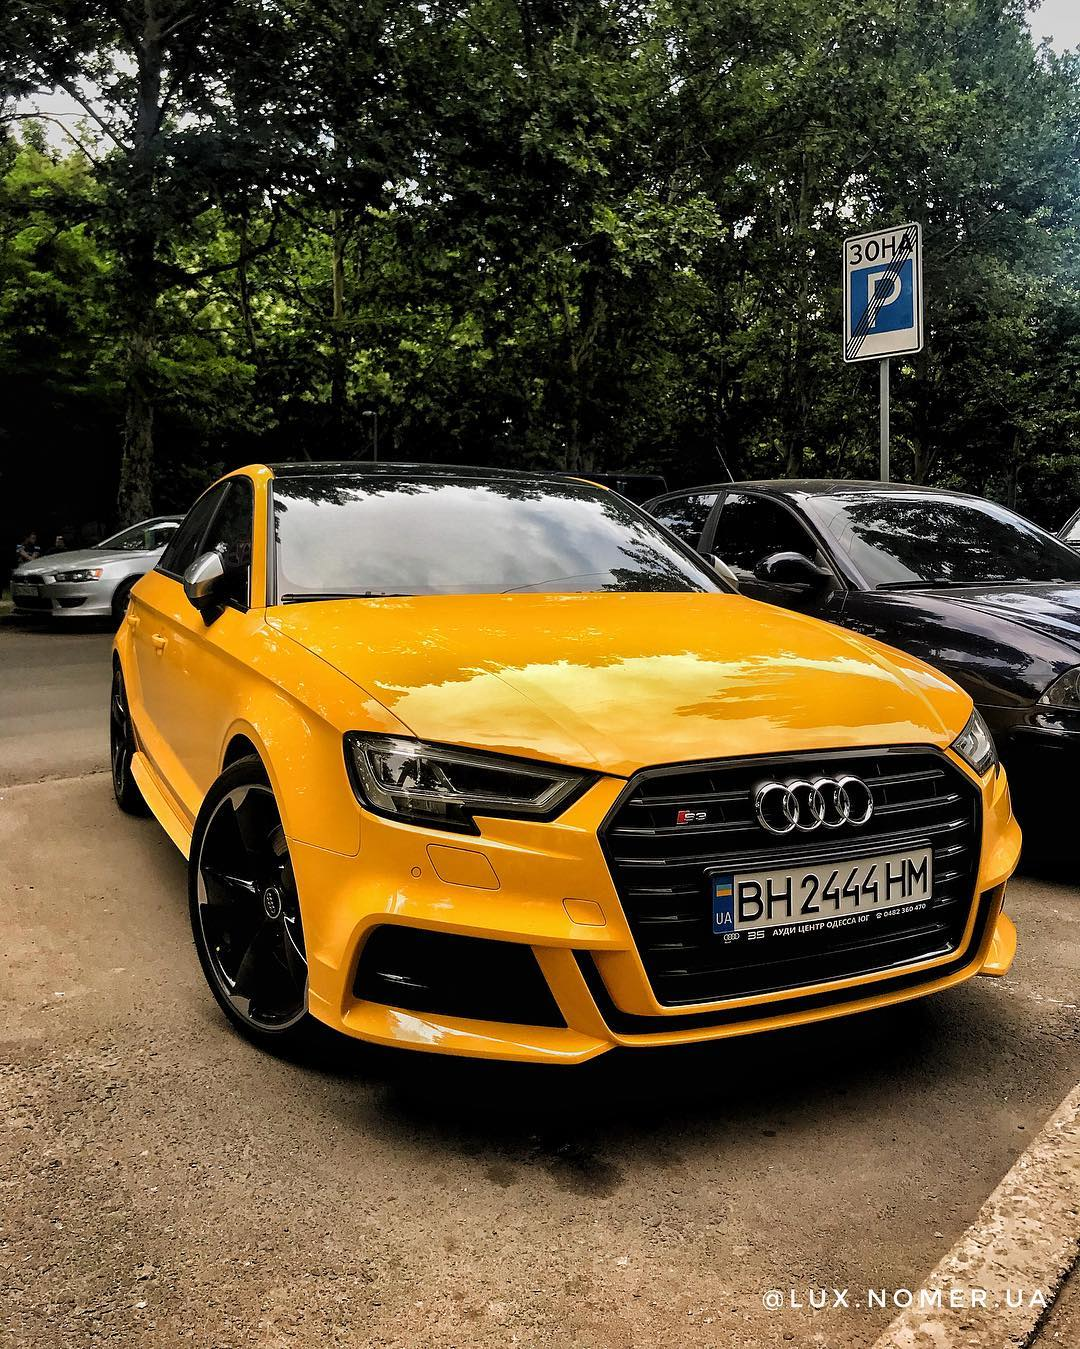car: (104, 453, 1022, 1067)
plate: (710, 839, 939, 947)
